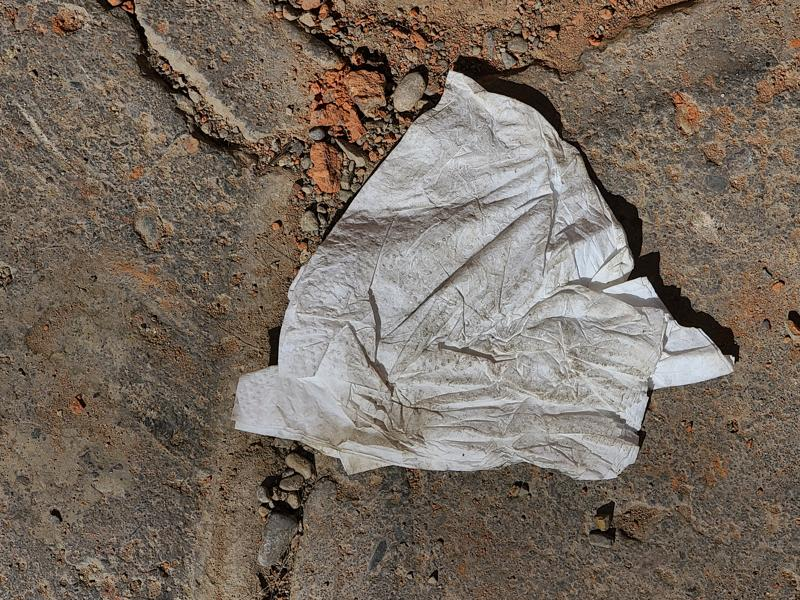papel: (233, 71, 734, 484)
